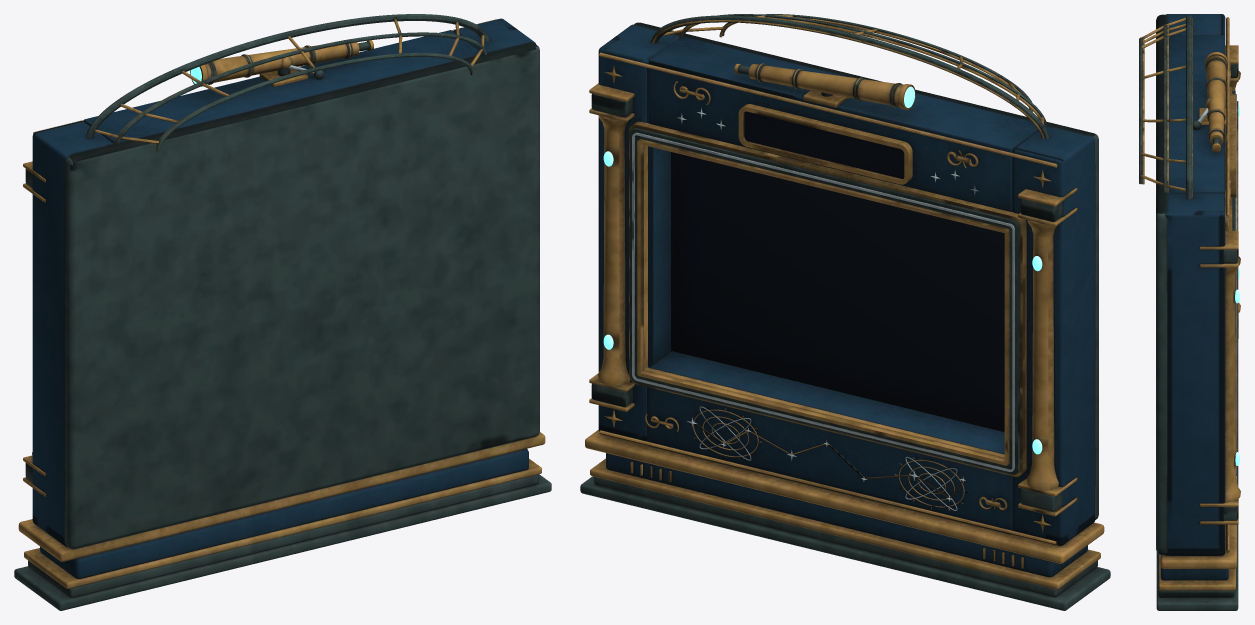
3 renders of one model, left to right at view 1: azimuth 30°, elevation 25°; view 2: azimuth 150°, elevation 25°; view 3: azimuth 270°, elevation 25°, orthographic. The views are drawn at different scales.
Visible parts, largest first — view 1: Structural_patinated_bronze, Midnight_enamel, Aged_observatory_brass; view 2: Midnight_enamel, Even_dark_inset, Aged_observatory_brass, Structural_patinated_bronze, Celestial_silver, Observatory_lens_glow; view 3: Midnight_enamel, Aged_observatory_brass, Structural_patinated_bronze, Celestial_silver, Observatory_lens_glow.
Boxes of the visible parts, x1,y1,x2,y2 form: Structural_patinated_bronze: [14, 14, 551, 610]; Midnight_enamel: [32, 18, 535, 578]; Aged_observatory_brass: [18, 18, 545, 588]; Midnight_enamel: [598, 24, 1095, 577]; Even_dark_inset: [671, 111, 1004, 431]; Aged_observatory_brass: [585, 15, 1104, 589]; Structural_patinated_bronze: [580, 14, 1110, 610]; Celestial_silver: [632, 108, 1014, 510]; Observatory_lens_glow: [603, 86, 1042, 454]; Midnight_enamel: [1160, 14, 1228, 580]; Aged_observatory_brass: [1141, 17, 1240, 590]; Structural_patinated_bronze: [1139, 14, 1238, 610]; Celestial_silver: [1197, 94, 1236, 475]; Observatory_lens_glow: [1235, 105, 1239, 465].
Bounding box in the file's own units: 9.16 × 9 × 1.88.
6 materials, 5 textured.
